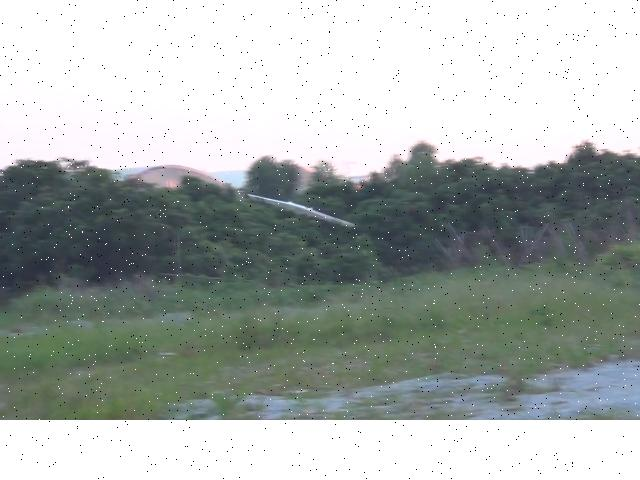Anti-Drone: (248, 196, 356, 229)
